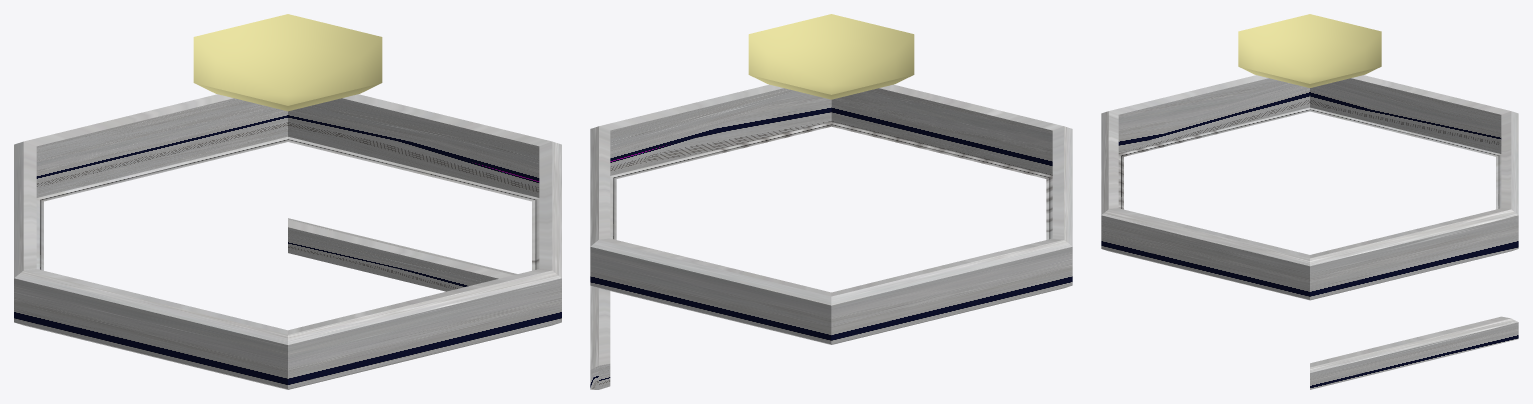
The model's file is Museum_Hex_Propeler_03_Art.fbx.
3 renders of one model, left to right at view 1: azimuth 30°, elevation 25°; view 2: azimuth 150°, elevation 25°; view 3: azimuth 270°, elevation 25°, orthographic. The views are drawn at different scales.
Visible parts, largest first — view 1: Museum_Hex_Propeler_03; view 2: Museum_Hex_Propeler_03; view 3: Museum_Hex_Propeler_03.
Boxes of the visible parts, x1=… form: Museum_Hex_Propeler_03: x1=14, y1=14, x2=561, y2=389; Museum_Hex_Propeler_03: x1=590, y1=14, x2=1072, y2=389; Museum_Hex_Propeler_03: x1=1101, y1=14, x2=1518, y2=389.
Size of the model in its own units: 1407 by 777 by 1218.
Materials: 2 (1 with a texture image).
